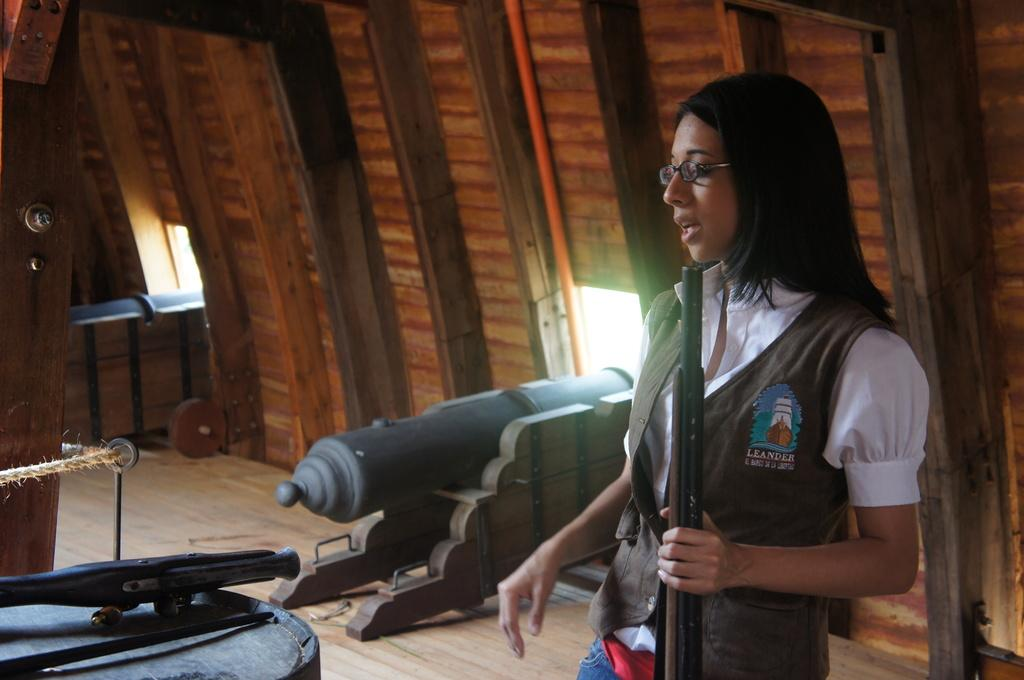Shotgun: (653, 264, 702, 679)
